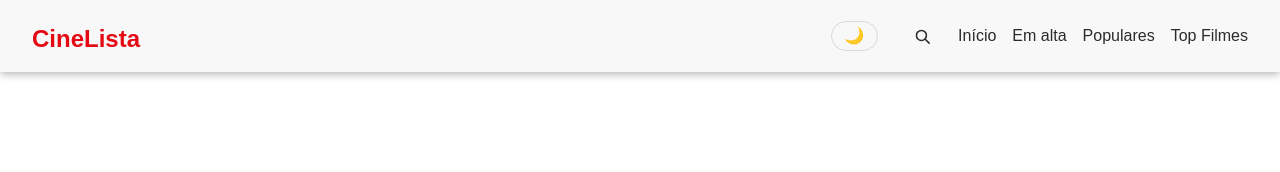
Test: Header › limpa o termo pesquisado ao clicar no botao de limpar
The image size is (1280, 172).
Click the button named "Abrir busca": (922, 36) [902,16,942,56]
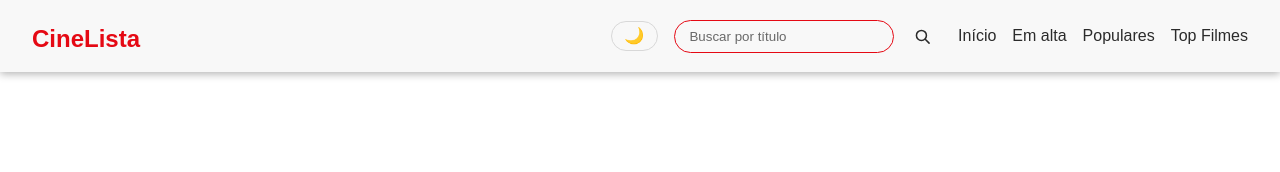
In the search field with placeholder "Buscar por título": (784, 36) [674,20,894,52], type "Interestelar"
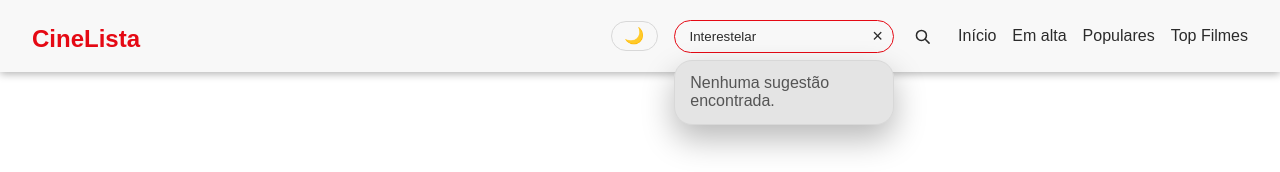
Click the button named "Limpar busca": (878, 36) [872,27,883,45]
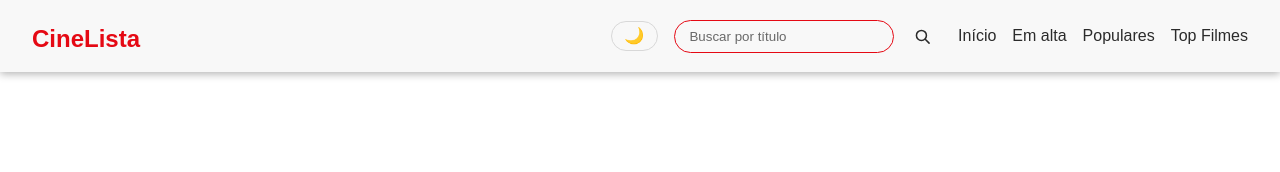
Expected: the search field with placeholder "Buscar por título" is empty, [674,20,894,52]
